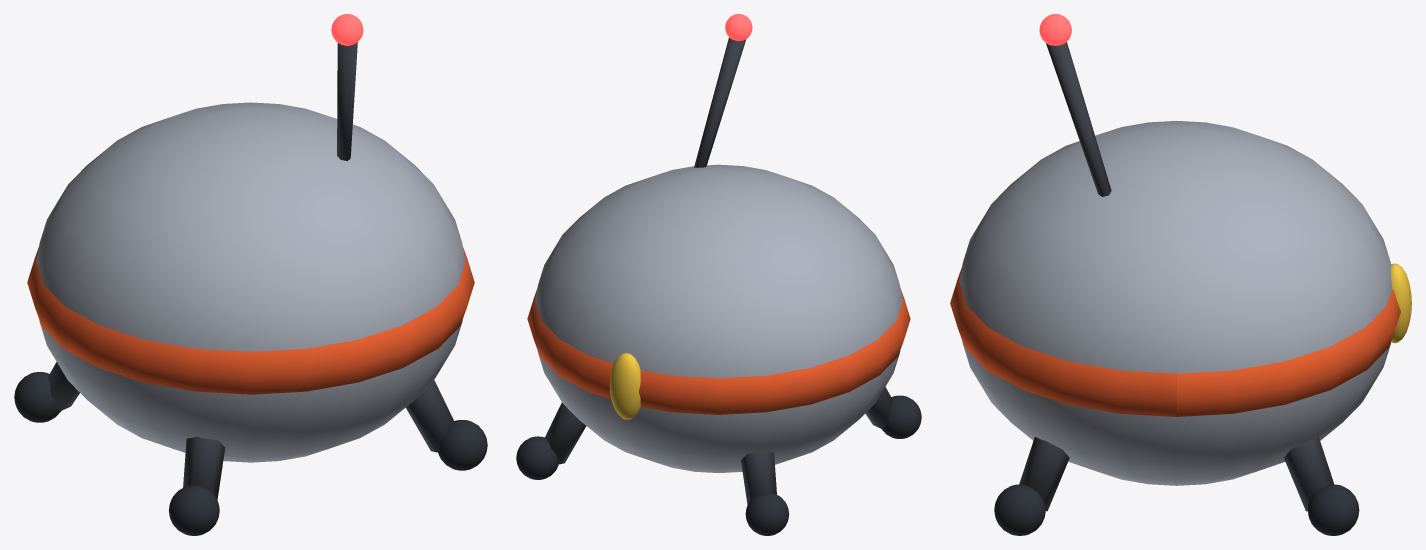
File: widow_mine.glb
The picture shows the model from 3 angles, left to right: view 1: azimuth 30°, elevation 25°; view 2: azimuth 150°, elevation 25°; view 3: azimuth 270°, elevation 25°; orthographic projection. The views are drawn at different scales.
Visible parts, largest first — view 1: wm_dome.001, wm_band.001, wm_foot2.001, wm_ant.001, wm_leg2.001, wm_foot3.001, wm_leg3.001, wm_foot1.001, wm_leg1.001, wm_anttip.001; view 2: wm_dome.001, wm_band.001, wm_ant.001, wm_slot.001, wm_foot1.001, wm_leg1.001, wm_foot0.001, wm_leg0.001, wm_foot2.001, wm_leg2.001, wm_anttip.001; view 3: wm_dome.001, wm_band.001, wm_ant.001, wm_foot0.001, wm_foot3.001, wm_leg0.001, wm_leg3.001, wm_slot.001, wm_anttip.001.
Boxes of the visible parts, bbox=[...] form: wm_dome.001: bbox=[36, 102, 465, 462]; wm_band.001: bbox=[27, 248, 474, 394]; wm_foot2.001: bbox=[168, 485, 219, 535]; wm_ant.001: bbox=[337, 42, 357, 160]; wm_leg2.001: bbox=[183, 436, 225, 500]; wm_foot3.001: bbox=[438, 420, 487, 470]; wm_leg3.001: bbox=[405, 380, 454, 452]; wm_foot1.001: bbox=[14, 372, 61, 422]; wm_leg1.001: bbox=[47, 362, 79, 410]; wm_anttip.001: bbox=[331, 14, 363, 45]; wm_dome.001: bbox=[535, 164, 902, 472]; wm_band.001: bbox=[527, 289, 910, 414]; wm_ant.001: bbox=[694, 37, 746, 167]; wm_slot.001: bbox=[609, 353, 640, 419]; wm_foot1.001: bbox=[745, 492, 789, 535]; wm_leg1.001: bbox=[741, 451, 776, 504]; wm_foot0.001: bbox=[516, 436, 558, 479]; wm_leg0.001: bbox=[545, 402, 586, 464]; wm_foot2.001: bbox=[881, 395, 921, 438]; wm_leg2.001: bbox=[865, 387, 892, 428]; wm_anttip.001: bbox=[725, 14, 752, 40]; wm_dome.001: bbox=[959, 121, 1391, 485]; wm_band.001: bbox=[950, 268, 1400, 416]; wm_ant.001: bbox=[1046, 42, 1111, 196]; wm_foot0.001: bbox=[1307, 484, 1359, 535]; wm_foot3.001: bbox=[994, 484, 1045, 535]; wm_leg0.001: bbox=[1284, 437, 1334, 511]; wm_leg3.001: bbox=[1019, 437, 1069, 511]; wm_slot.001: bbox=[1391, 263, 1411, 343]; wm_anttip.001: bbox=[1039, 14, 1071, 45].
Bounding box in the file's own units: 0.614 × 0.702 × 0.6252.
